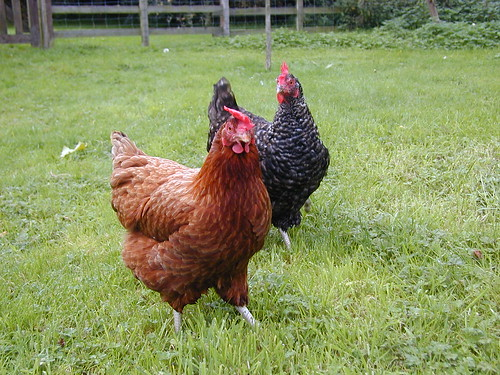chicken: (106, 107, 273, 334), (203, 62, 333, 237)
